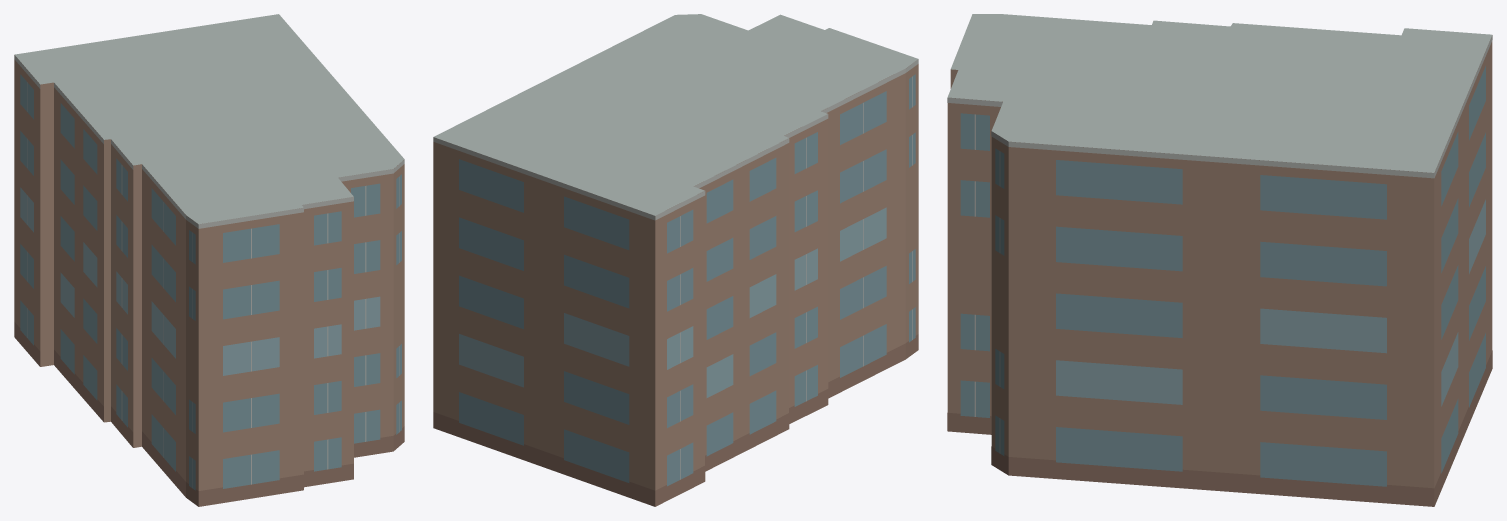
File: survey-upis-32614781.glb
3 renders of one model, left to right at view 1: azimuth 30°, elevation 25°; view 2: azimuth 150°, elevation 25°; view 3: azimuth 270°, elevation 25°, orthographic. The views are drawn at different scales.
Visible parts, largest first — view 1: survey-upis-32614781.tmp; view 2: survey-upis-32614781.tmp; view 3: survey-upis-32614781.tmp.
Part boxes in pixels (left/top/right/bottom): survey-upis-32614781.tmp: left=14, top=14, right=404, bottom=506; survey-upis-32614781.tmp: left=433, top=14, right=918, bottom=506; survey-upis-32614781.tmp: left=947, top=14, right=1492, bottom=506.
Size of the model in its own units: 15.43 by 15.1 by 22.35.
